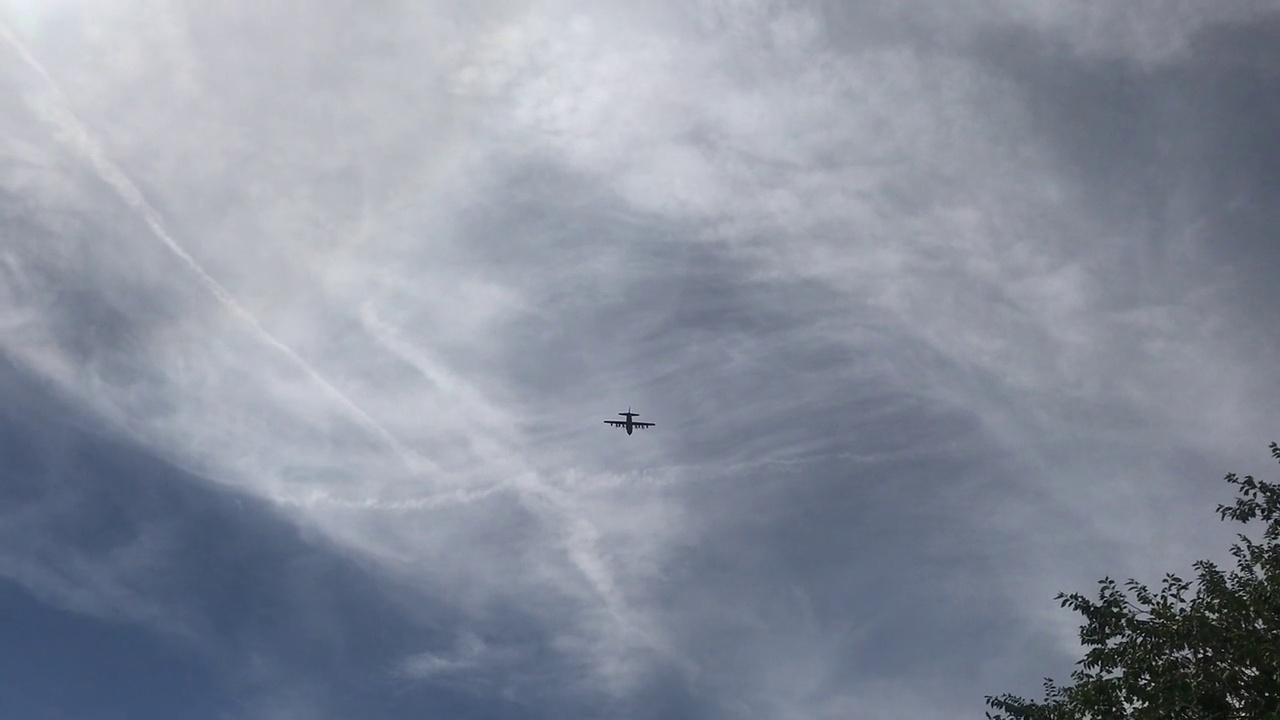plane: (602, 406, 654, 435)
